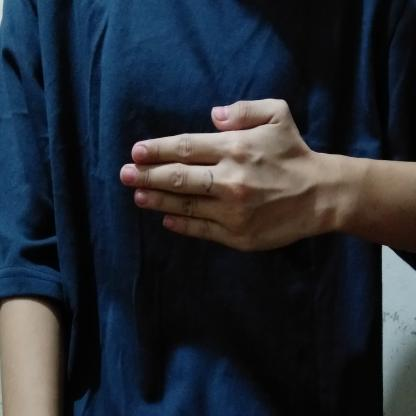ready: (117, 93, 371, 254)
